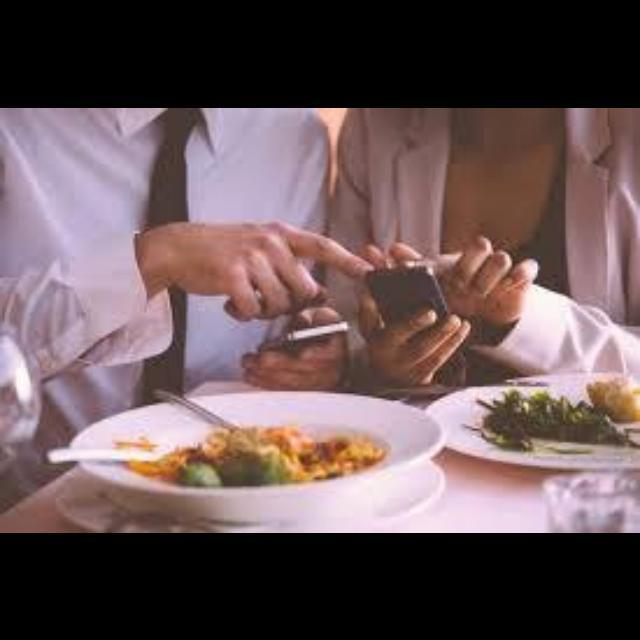phone: (348, 248, 494, 355), (256, 300, 358, 370)
